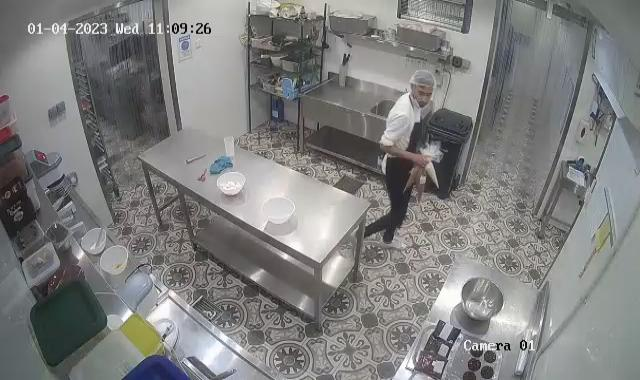hairnet: (407, 70, 439, 99)
